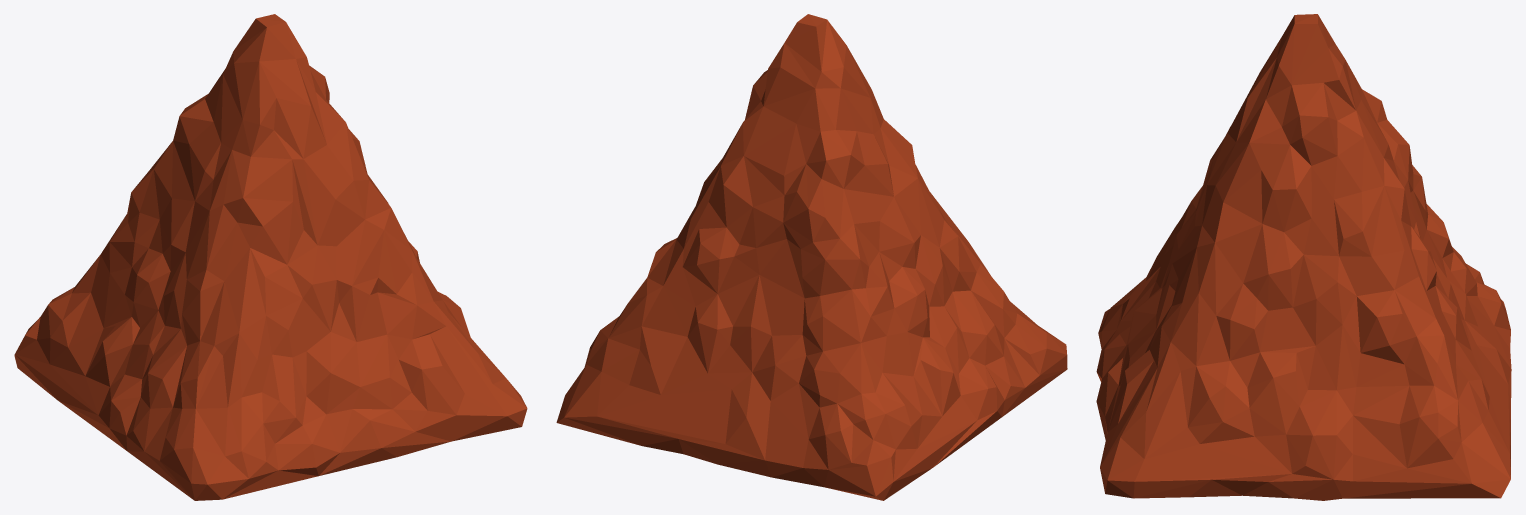
The model's file is SM_roof_pyramid_02.fbx.
3 renders of one model, left to right at view 1: azimuth 30°, elevation 25°; view 2: azimuth 150°, elevation 25°; view 3: azimuth 270°, elevation 25°, orthographic. The views are drawn at different scales.
Visible parts, largest first — view 1: roof_pyramid_02; view 2: roof_pyramid_02; view 3: roof_pyramid_02.
Part boxes in pixels (box(x1,y1,x2,y2)): roof_pyramid_02: box(14, 14, 527, 500); roof_pyramid_02: box(556, 14, 1067, 500); roof_pyramid_02: box(1096, 14, 1511, 500).
Size of the model in its own units: 309 by 326 by 307.
